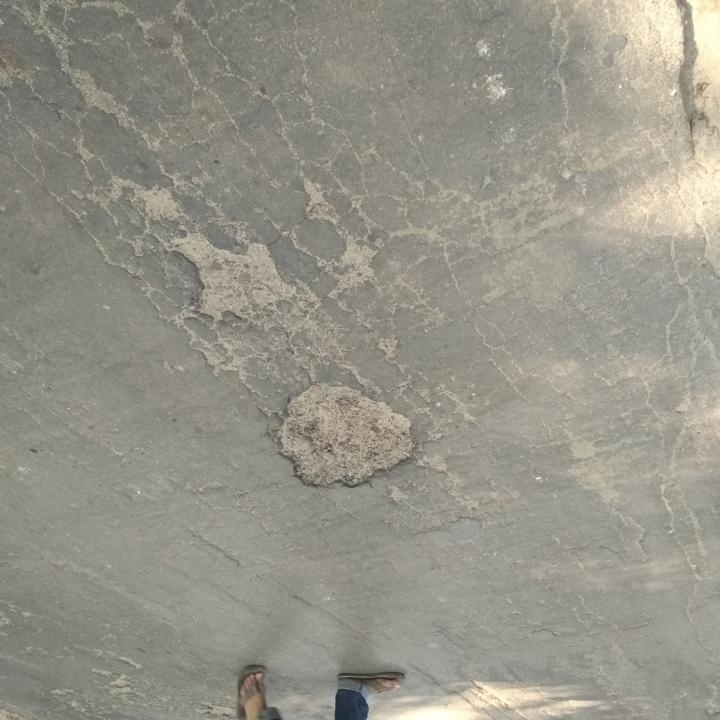pothole: (269, 380, 417, 493), (161, 234, 297, 326)
